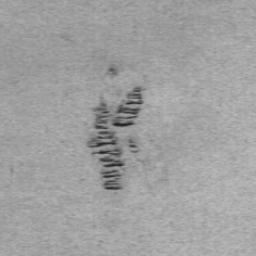Secondary rust skin: (89, 70, 143, 191)
